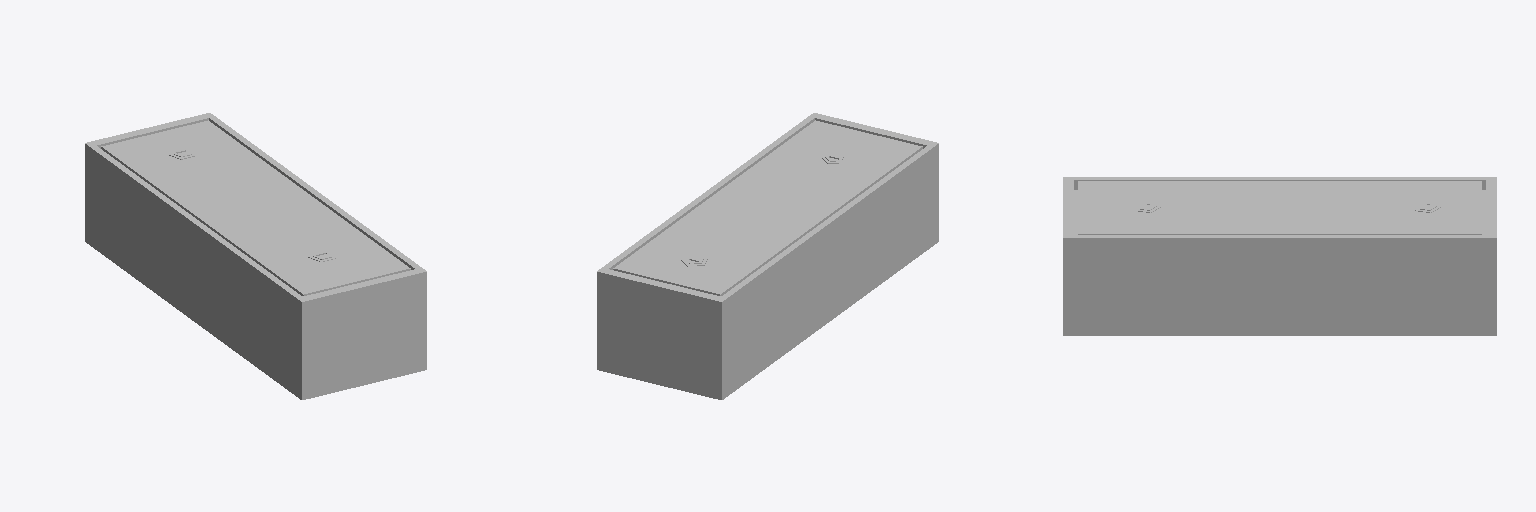
File: spawner_gun_safe_vert_1.obj
3 renders of one model, left to right at view 1: azimuth 30°, elevation 25°; view 2: azimuth 150°, elevation 25°; view 3: azimuth 270°, elevation 25°, orthographic.
Visible parts, largest first — view 1: Plane; view 2: Plane; view 3: Plane.
Boxes of the visible parts, box(x1,y1,x2,y2) form: Plane: box(85, 113, 426, 399); Plane: box(597, 113, 938, 399); Plane: box(1063, 177, 1496, 335).
Bounding box in the file's own units: 2 × 1.52 × 6.